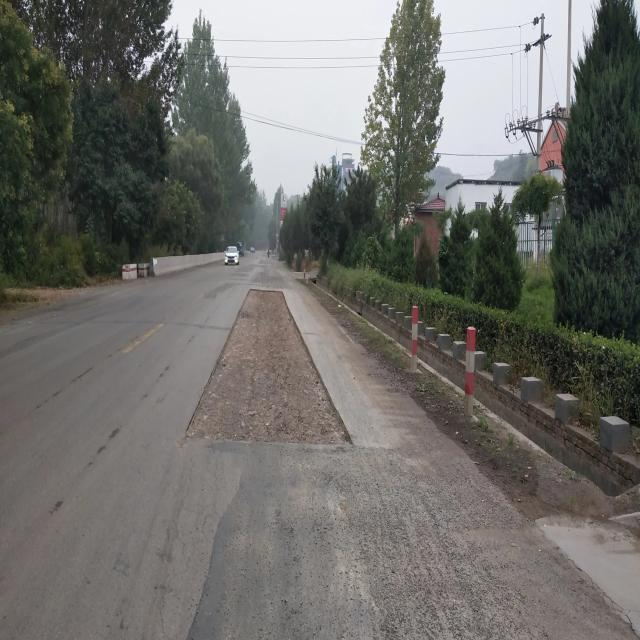Buraco: (179, 288, 357, 447)
